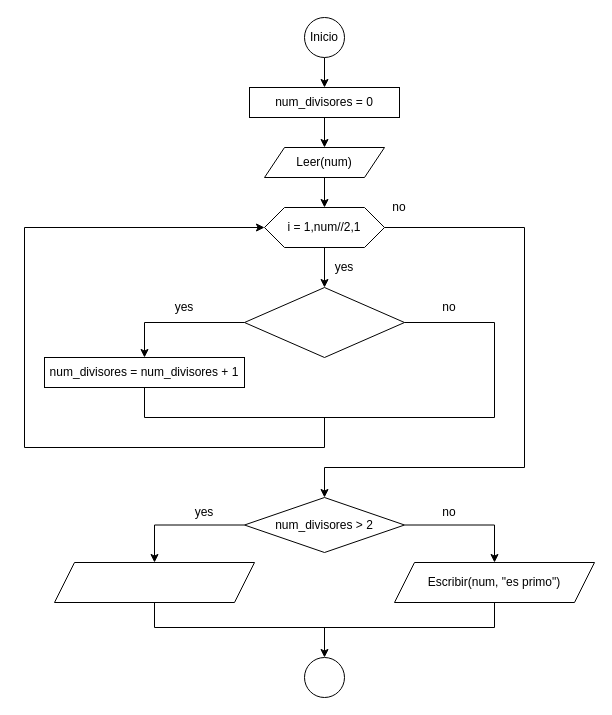
This 612x715 diagram has some shape labels left out. Each missing label, with the centre of its shape:
Escribir(num, "no es primo"): (154,582)
Fin: (324,677)
num%i == 0: (324,322)
